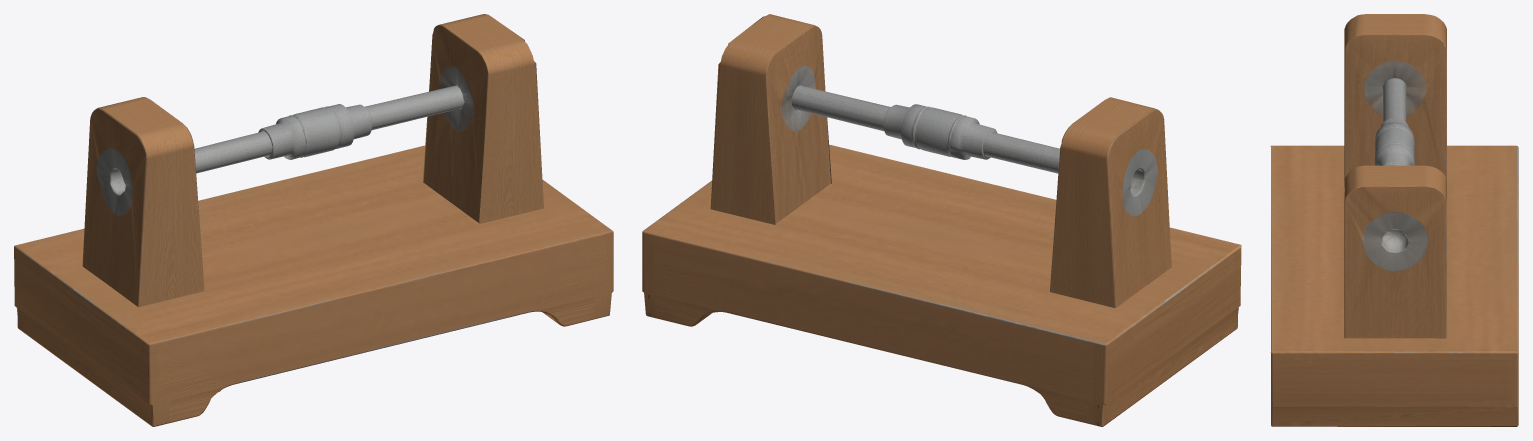
File: boot_scraper.glb
3 views of the same model, side by side, from view 1: azimuth 30°, elevation 25°; view 2: azimuth 150°, elevation 25°; view 3: azimuth 270°, elevation 25° (orthographic). The views are drawn at different scales.
Parts seen in each view (by area): view 1: boot_scraper; view 2: boot_scraper; view 3: boot_scraper.
Part boxes in pixels (box(x1,y1,x2,y2)): boot_scraper: box(14, 14, 613, 426); boot_scraper: box(642, 14, 1241, 426); boot_scraper: box(1270, 14, 1518, 426).
Size of the model in its own units: 0.3537 by 0.18 by 0.1791.
Materials: 1 (1 with a texture image).
